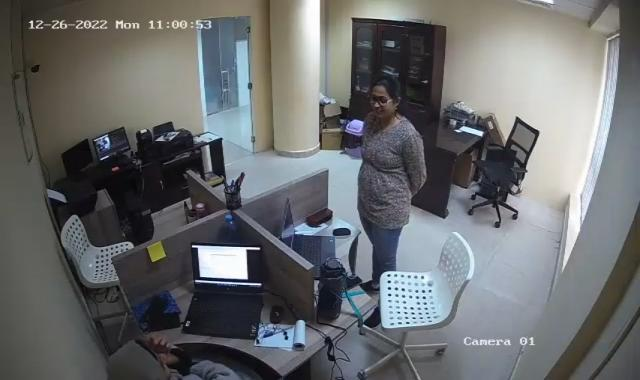no_hairnet: (108, 349, 171, 380), (366, 76, 402, 120)
